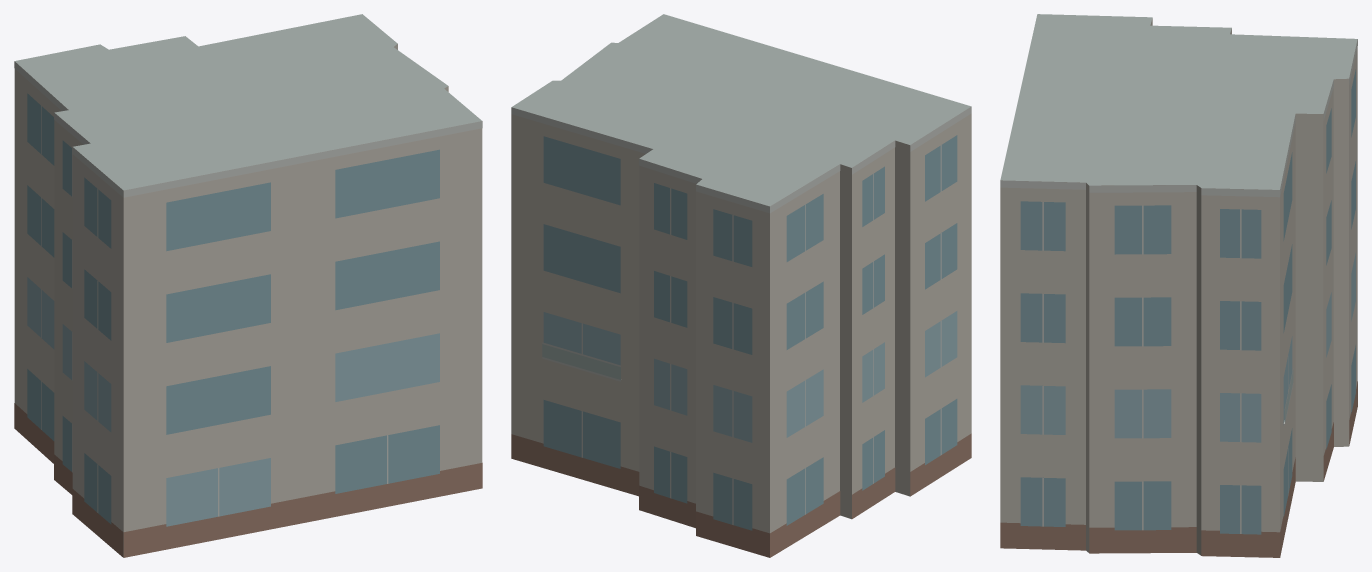
File: survey-upis-32687125.glb
The picture shows the model from 3 angles, left to right: view 1: azimuth 30°, elevation 25°; view 2: azimuth 150°, elevation 25°; view 3: azimuth 270°, elevation 25°; orthographic projection. The views are drawn at different scales.
Parts seen in each view (by area): view 1: survey-upis-32687125.tmp; view 2: survey-upis-32687125.tmp; view 3: survey-upis-32687125.tmp.
Boxes of the visible parts, x1,y1,x2,y2 form: survey-upis-32687125.tmp: (14, 14, 482, 557); survey-upis-32687125.tmp: (511, 14, 971, 557); survey-upis-32687125.tmp: (1000, 14, 1357, 557).
Bounding box in the file's own units: 12.73 × 12.4 × 10.93.
